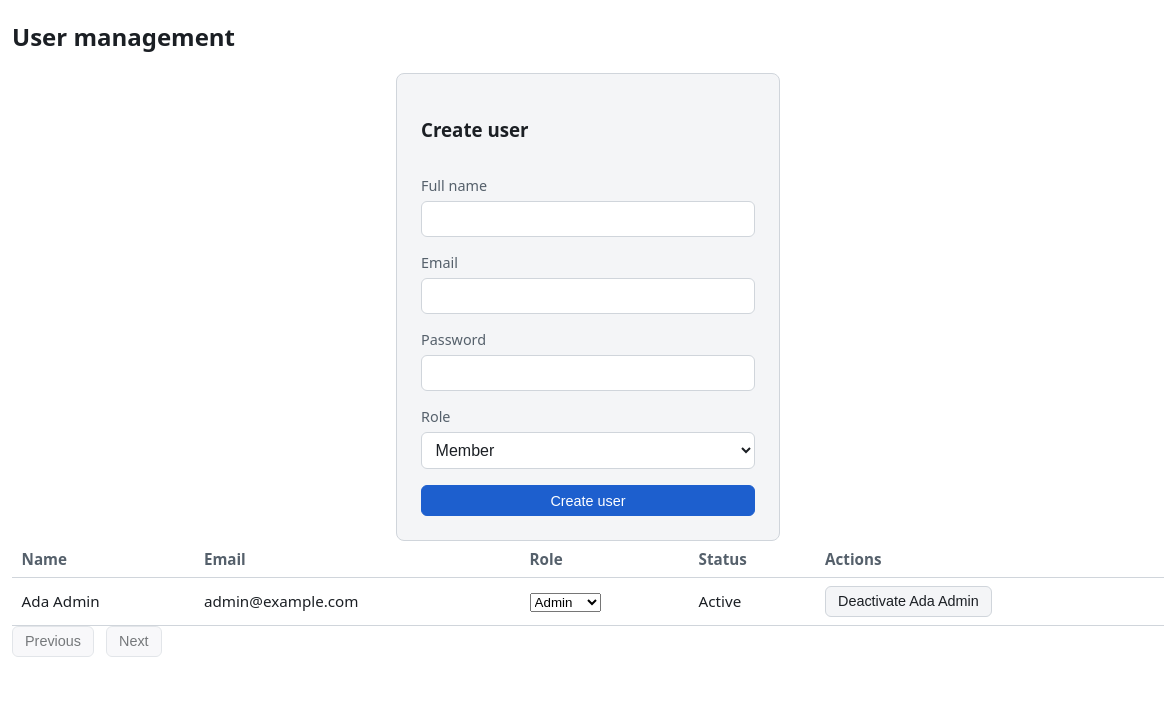
Test: UsersPage › creates a user and refreshes the list
The image size is (1164, 720).
expect the text "Ada Admin" is shown: met, box 12,578 -> 194,625
Type "Mel Member" into the field labelled "Full name" at (588, 219), box 421,201 -> 755,237
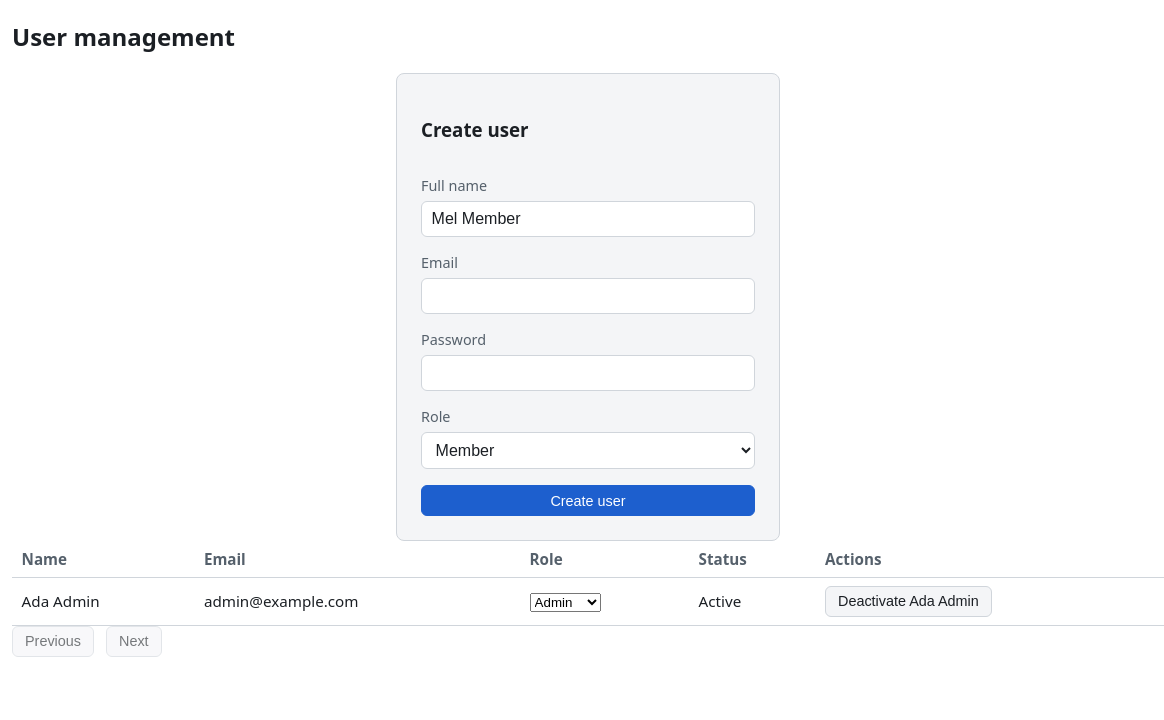
Type "member@example.com" into the field labelled "Email" at (588, 296), box 421,278 -> 755,314
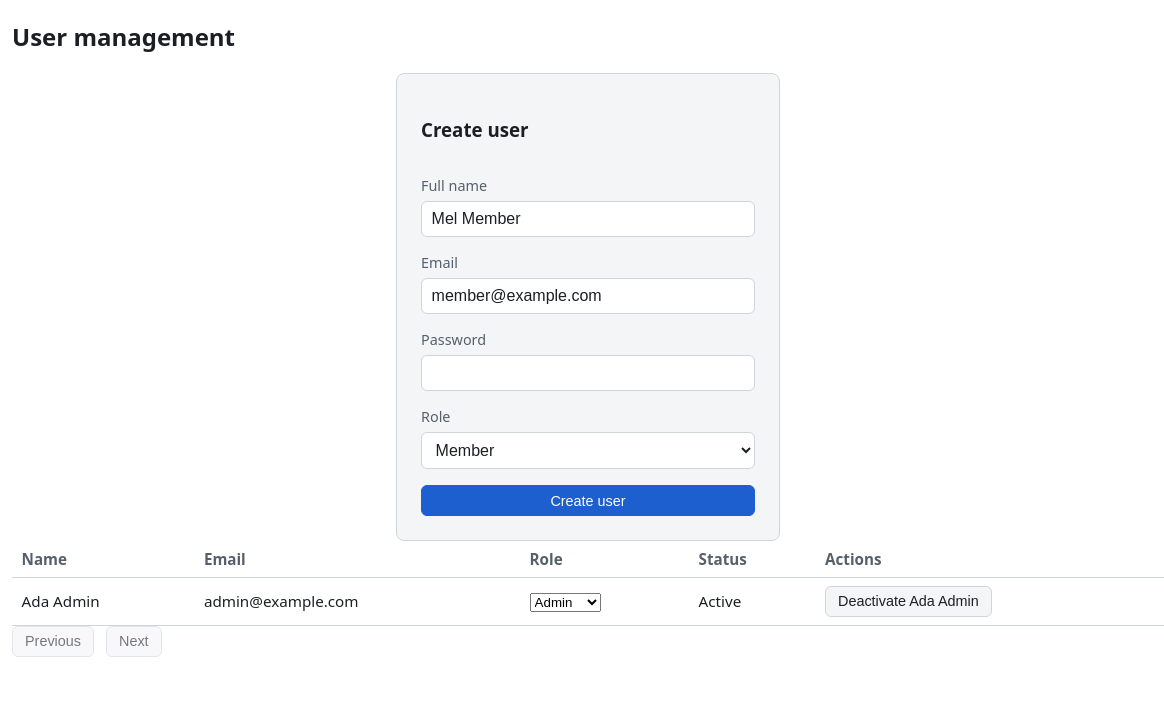
Type "secret123" into the password field labelled "Password" at (588, 373), box 421,355 -> 755,391
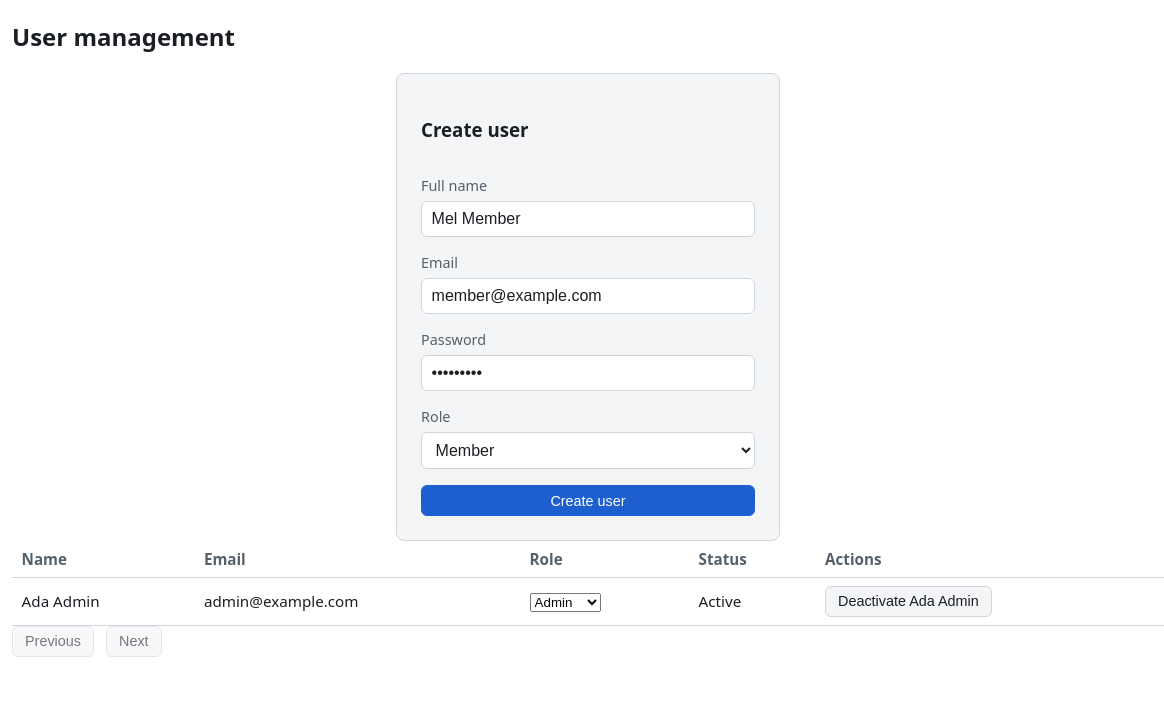
Click the button "Create user" at (588, 501), box 421,485 -> 755,516
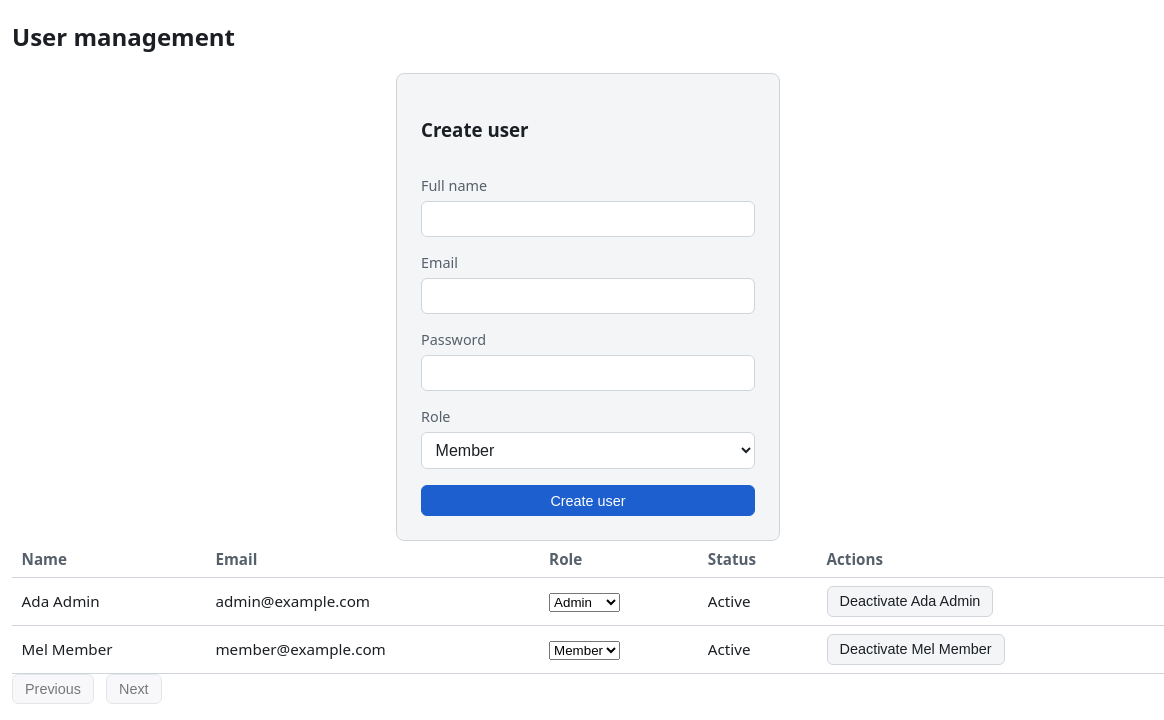
expect the text "Mel Member" is shown: met, box 12,625 -> 206,673
